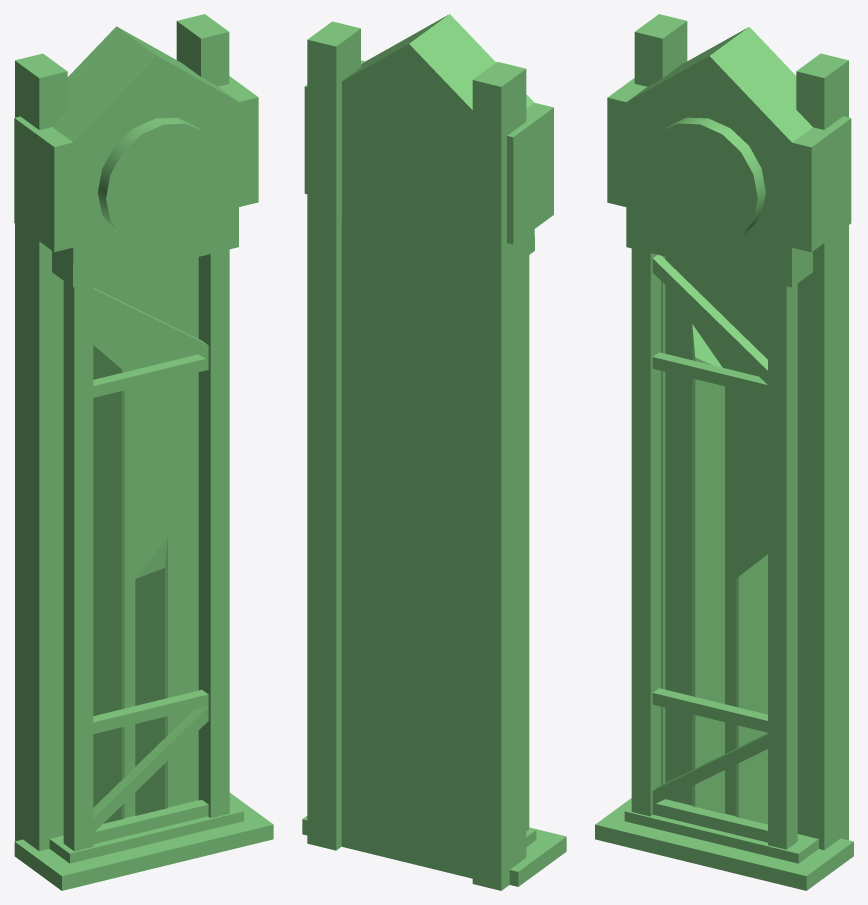
The model's file is Bld3_Deco_Clock.fbx.
3 renders of one model, left to right at view 1: azimuth 30°, elevation 25°; view 2: azimuth 150°, elevation 25°; view 3: azimuth 330°, elevation 25°, orthographic. The views are drawn at different scales.
Parts seen in each view (by area): view 1: Bld3_Deco_Clock; view 2: Bld3_Deco_Clock; view 3: Bld3_Deco_Clock.
Part boxes in pixels (x1,y1,x2,y2): Bld3_Deco_Clock: [14, 14, 273, 890]; Bld3_Deco_Clock: [302, 14, 566, 890]; Bld3_Deco_Clock: [595, 14, 853, 890].
Bounding box in the file's own units: 270 × 978 × 123.
